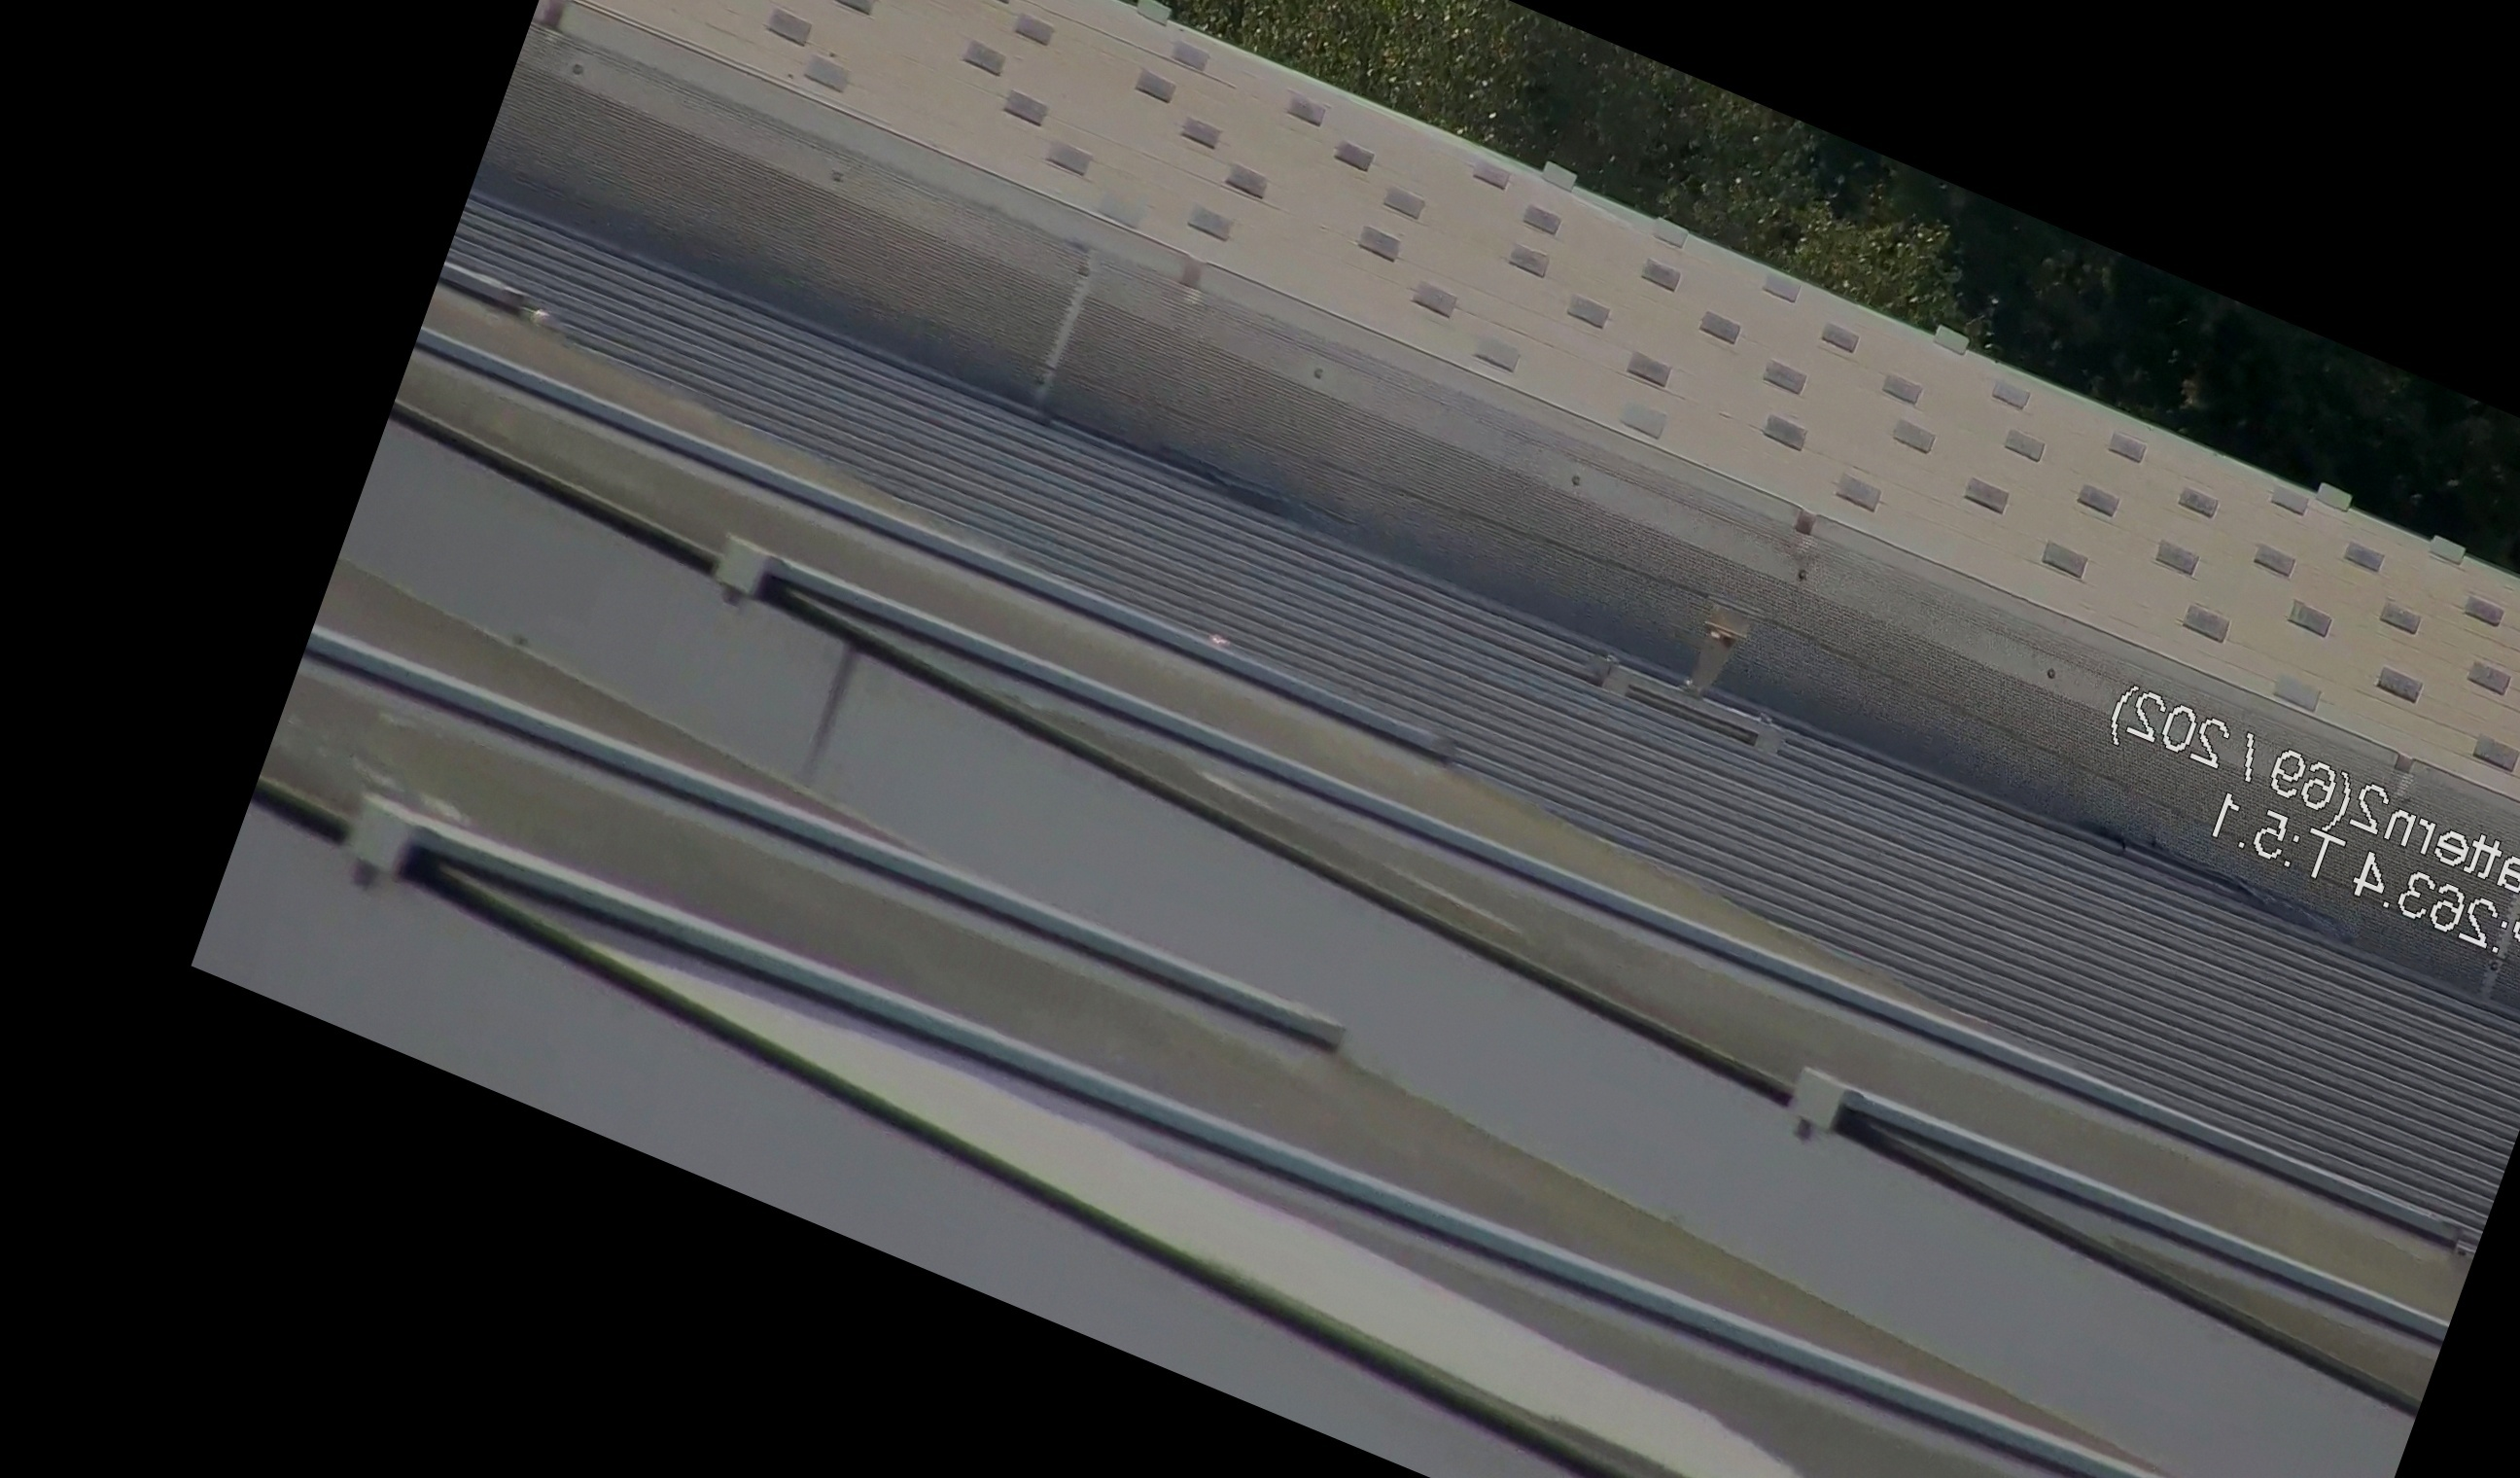Other: (1664, 591, 1776, 723)
